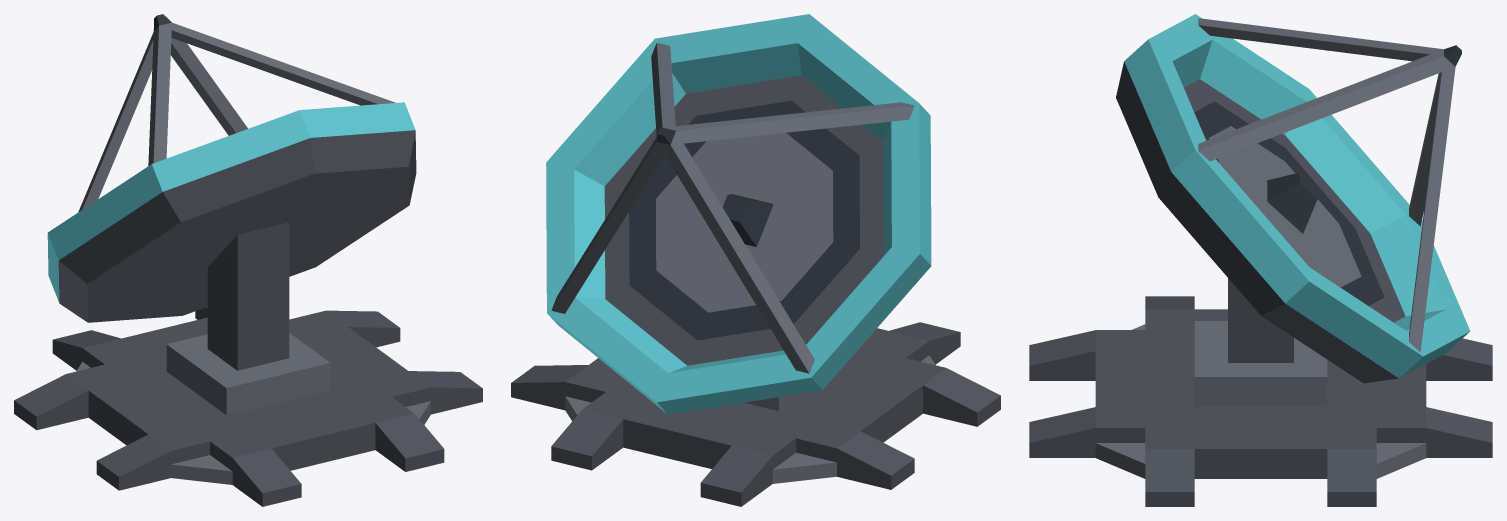
Rendered from drone_guardian.glb.
The picture shows the model from 3 angles, left to right: view 1: azimuth 30°, elevation 25°; view 2: azimuth 150°, elevation 25°; view 3: azimuth 270°, elevation 25°; orthographic projection. The views are drawn at different scales.
Visible parts, largest first — view 1: body; view 2: body; view 3: body.
Part boxes in pixels (x1,y1,x2,y2): body: (14, 14, 482, 506); body: (511, 14, 1000, 506); body: (1029, 14, 1492, 506).
Size of the model in its own units: 1 by 0.8807 by 1.
